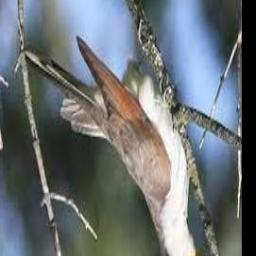Cuckoo: (60, 35, 206, 256)
